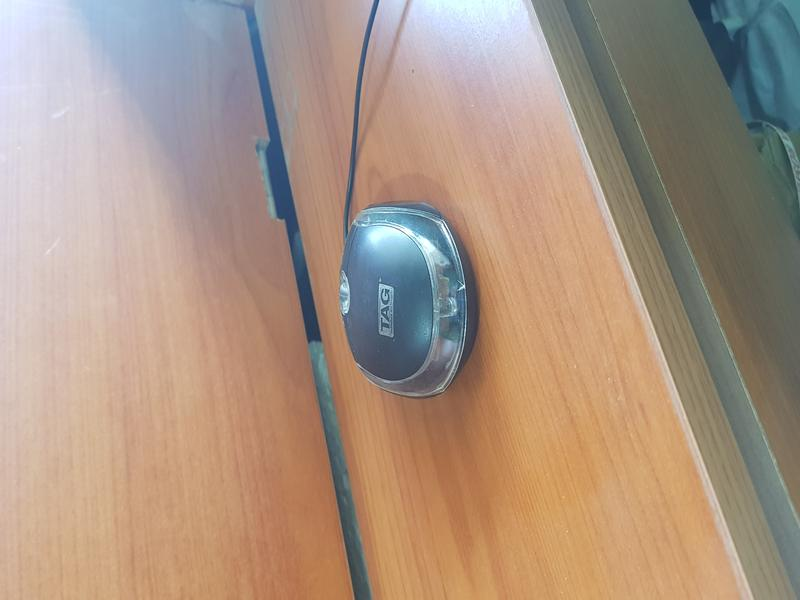mouse: (317, 173, 474, 410)
